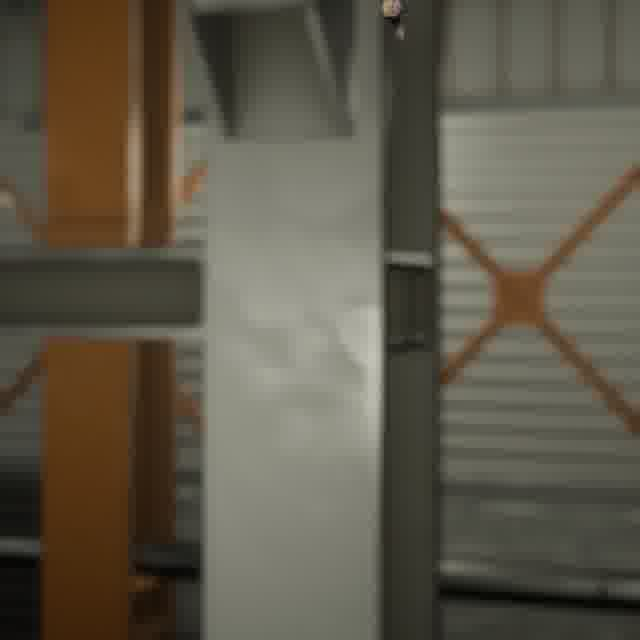bolt: (376, 0, 409, 46)
